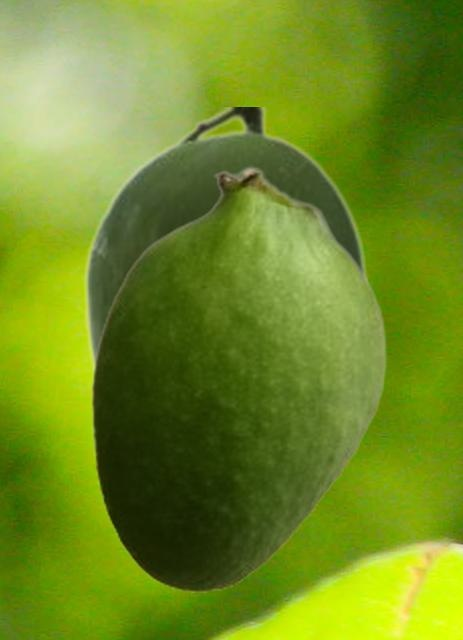green_mango: (90, 165, 386, 591), (81, 107, 368, 384)
